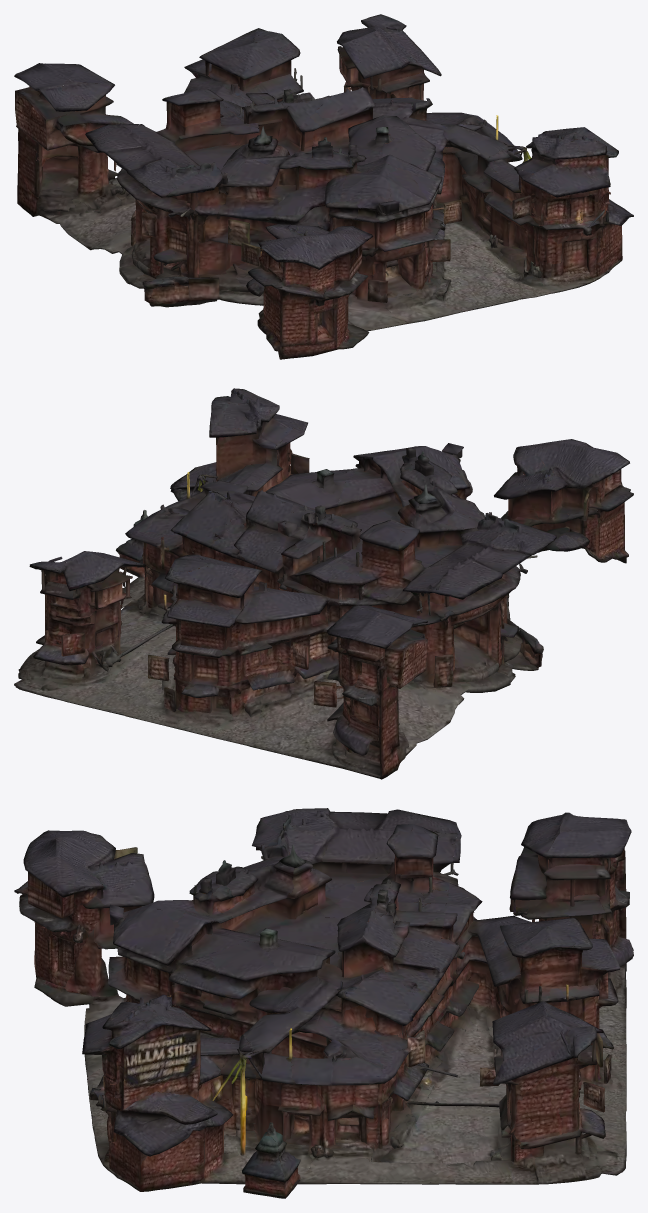
File: freak street.glb
3 renders of one model, top to bottom at view 1: azimuth 30°, elevation 25°; view 2: azimuth 150°, elevation 25°; view 3: azimuth 270°, elevation 25°, orthographic. The views are drawn at different scales.
Parts seen in each view (by area): view 1: tripo_node_170df8a4-1c24-4cc7-8401-75018; view 2: tripo_node_170df8a4-1c24-4cc7-8401-75018; view 3: tripo_node_170df8a4-1c24-4cc7-8401-75018.
Part boxes in pixels (bbox=[...]): tripo_node_170df8a4-1c24-4cc7-8401-75018: bbox=[14, 14, 633, 359]; tripo_node_170df8a4-1c24-4cc7-8401-75018: bbox=[14, 388, 633, 779]; tripo_node_170df8a4-1c24-4cc7-8401-75018: bbox=[14, 808, 633, 1198].
Size of the model in its own units: 0.9248 by 0.3356 by 1.
1 material, 1 textured.
